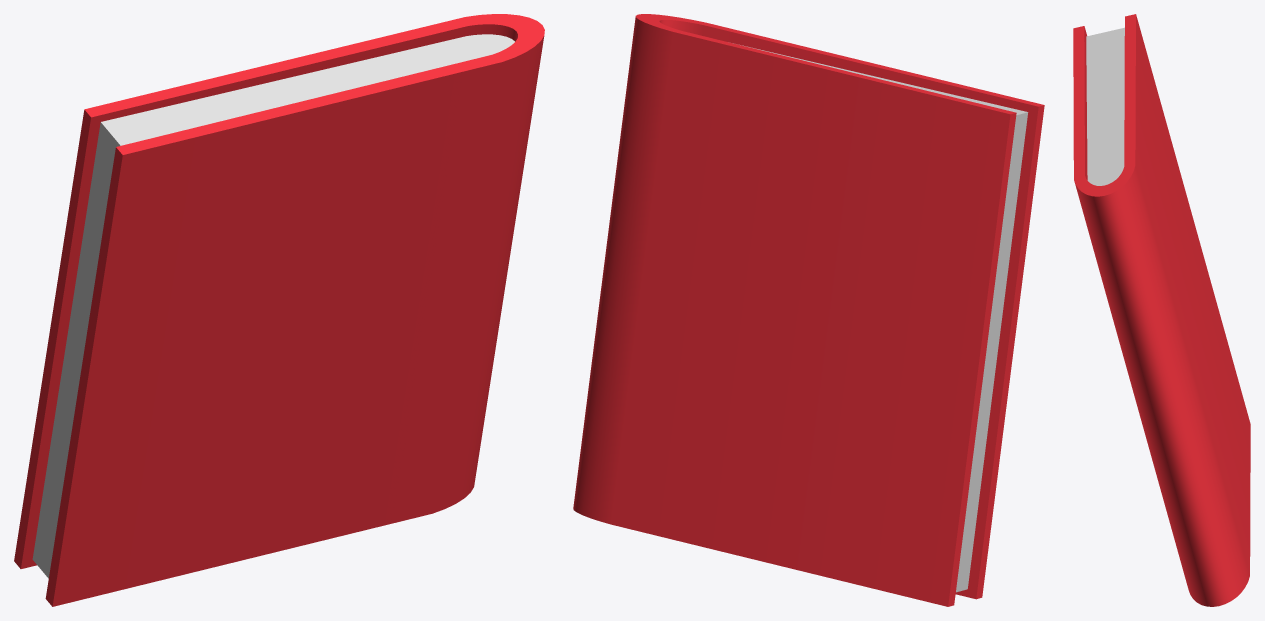
File: Libro.003.glb
3 renders of one model, left to right at view 1: azimuth 30°, elevation 25°; view 2: azimuth 150°, elevation 25°; view 3: azimuth 270°, elevation 25°, orthographic. The views are drawn at different scales.
Visible parts, largest first — view 1: Caballete_Libro.003; view 2: Caballete_Libro.003; view 3: Caballete_Libro.003.
Boxes of the visible parts, x1,y1,x2,y2 form: Caballete_Libro.003: (14, 14, 544, 606); Caballete_Libro.003: (573, 14, 1044, 606); Caballete_Libro.003: (1073, 14, 1250, 606).
Size of the model in its own units: 0.2625 by 0.2977 by 0.1127.
